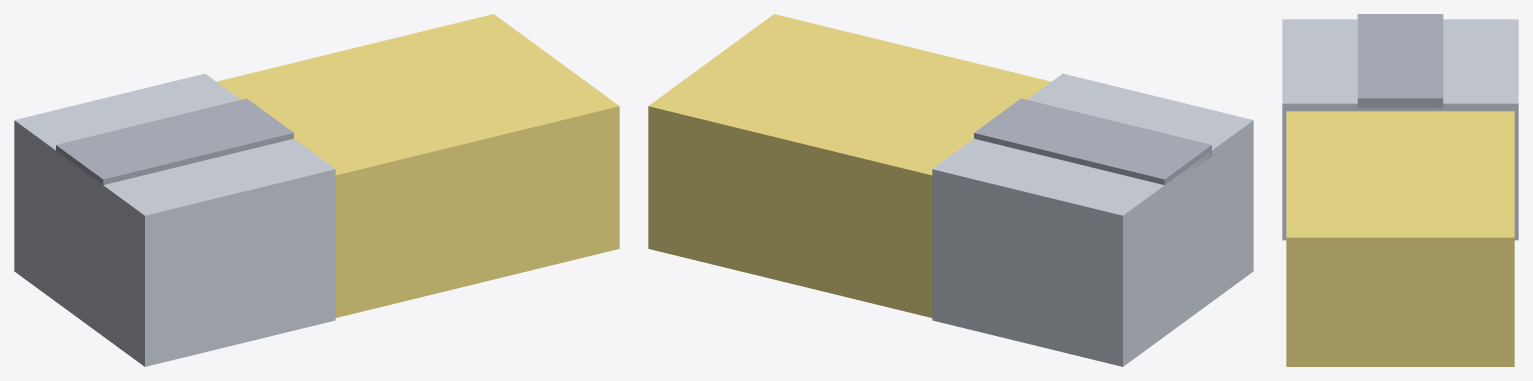
File: Food_Butter.obj
3 renders of one model, left to right at view 1: azimuth 30°, elevation 25°; view 2: azimuth 150°, elevation 25°; view 3: azimuth 270°, elevation 25°, orthographic. The views are drawn at different scales.
Bounding box in the file's own units: 1.75 × 0.55 × 0.83.
